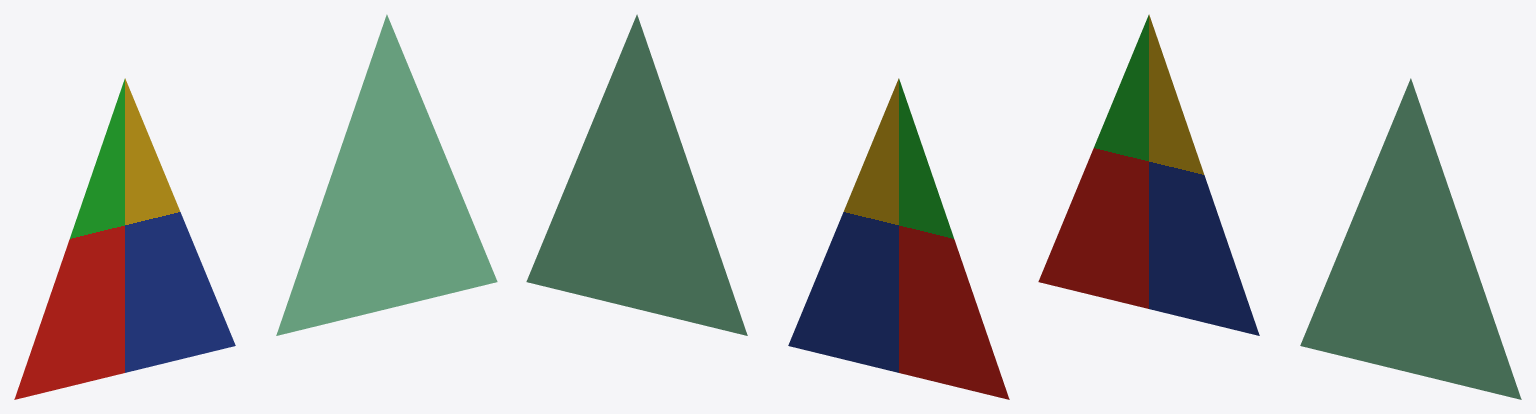
The model's file is gkcore_basecolor.glb.
3 renders of one model, left to right at view 1: azimuth 30°, elevation 25°; view 2: azimuth 150°, elevation 25°; view 3: azimuth 330°, elevation 25°, orthographic.
Bounding box in the file's own units: 2.4 × 1.4 × 0.
Materials: 2 (1 with a texture image).
